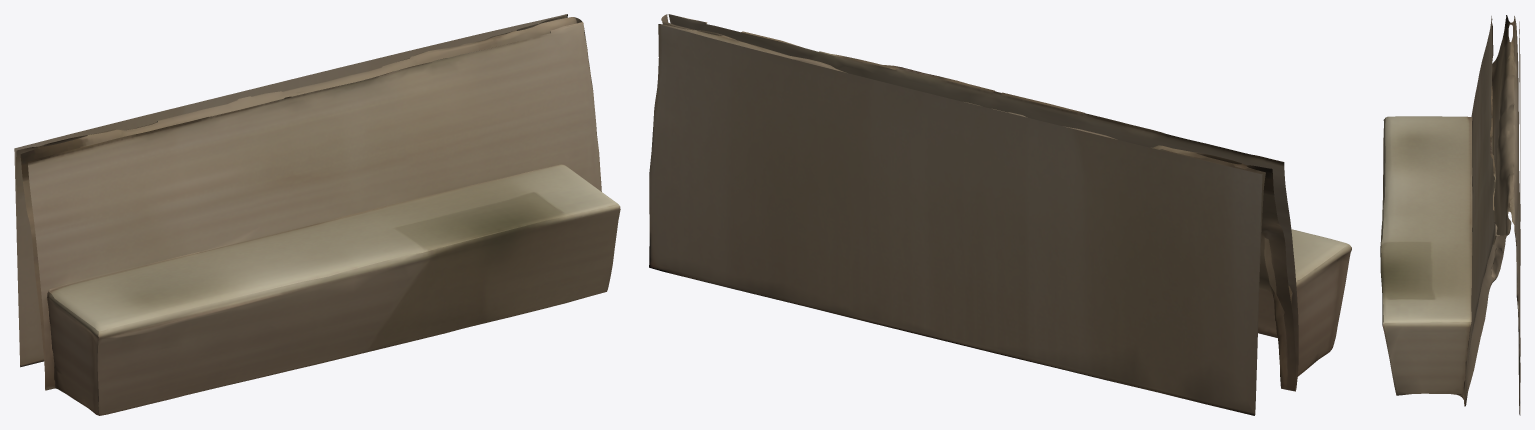
Rendered from 책장아래의자.fbx.
3 views of the same model, side by side, from view 1: azimuth 30°, elevation 25°; view 2: azimuth 150°, elevation 25°; view 3: azimuth 270°, elevation 25° (orthographic). The views are drawn at different scales.
Parts seen in each view (by area): view 1: geometry_0; view 2: geometry_0; view 3: geometry_0.
Boxes of the visible parts, left/top/right/bottom form: geometry_0: left=14, top=14, right=620, bottom=415; geometry_0: left=649, top=14, right=1351, bottom=415; geometry_0: left=1380, top=15, right=1520, bottom=415.
Bounding box in the file's own units: 925 × 351 × 246.
1 material, 1 textured.
